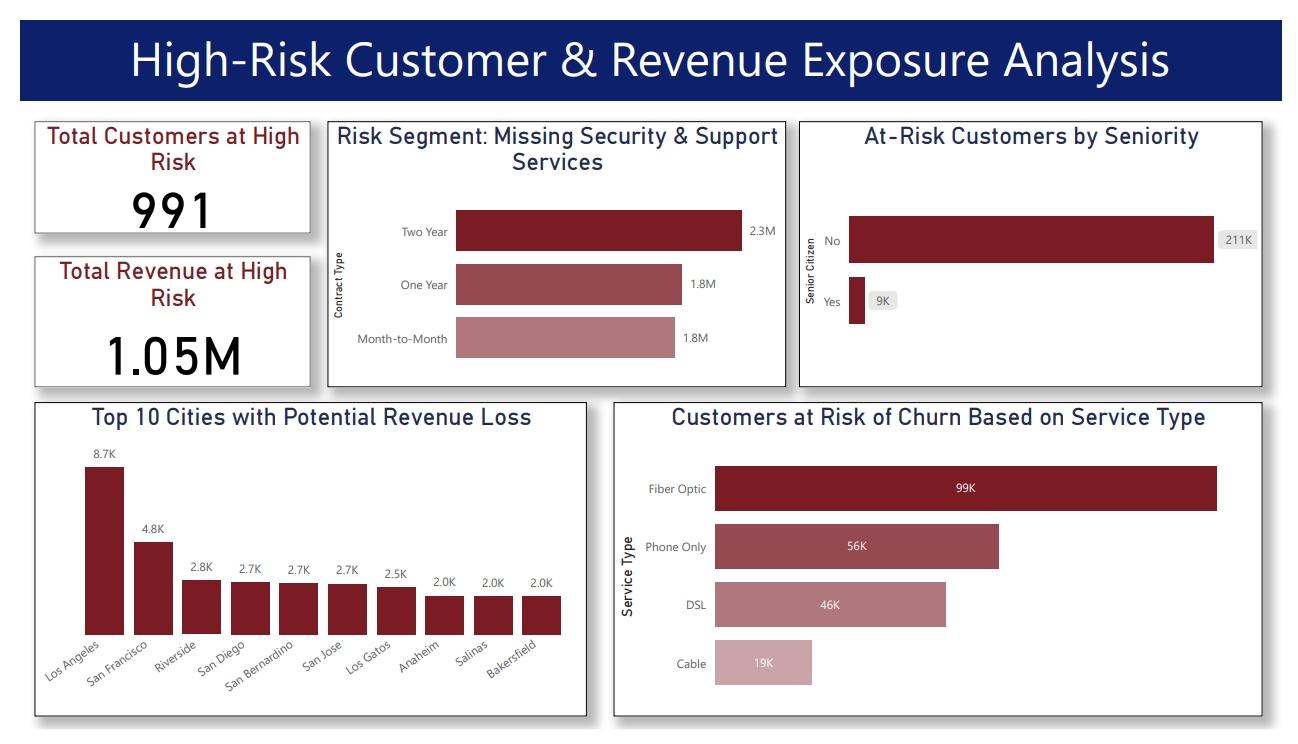

Layout of this report page (visuals, bound fields, positions):
{"tool":"powerbi","page":{"name":"Customer Risk Profiling","canvas":[1280,720],"ordinal":4},"visuals":[{"type":"textbox","box":[0,0,1279,82.1],"z":0},{"type":"card","title":"Total Customers at High Risk","fields":{"Values":["Fact_Churn.At Risk Customers"]},"box":[15,103.3,280,113.3],"z":1000},{"type":"barChart","title":"Risk Segment: Missing Security & Support Services","fields":{"Category":["Dim_Services.Contract"],"Y":["Sum(Dim_Services.Total Revenue)"]},"box":[311.7,103.3,465,270],"z":2000},{"type":"clusteredBarChart","title":"At-Risk Customers by Seniority","fields":{"Category":["Dim_Demographics.Senior Citizen"],"Y":["Sum(Dim_Services.Total Revenue)"]},"box":[790,103.3,470,270],"z":3000},{"type":"clusteredBarChart","title":"Customers at Risk of Churn Based on Service Type","fields":{"Category":["Dim_Services.Internet Type"],"Y":["Sum(Dim_Services.Total Revenue)"]},"box":[601.7,388.3,658.3,318.3],"z":4000},{"type":"card","title":"Total Revenue at High Risk","fields":{"Values":["Fact_Churn.At Risk Revenue"]},"box":[15,240,280,133.3],"z":5000},{"type":"clusteredColumnChart","title":"Top 10 Cities with Potential Revenue Loss","fields":{"Category":["Dim_Location.City"],"Y":["Fact_Churn.Potential Revenue Loss"]},"box":[15,388.3,560,318.3],"z":6000}]}

Visuals, with their boxes in screenshot pixels (x1, y1, x2, y2), scaled from the page's 1280x720 canvas onto the 1298x744 screenshot:
textbox: 0/0/1297/85
"Total Customers at High Risk" card: 15/107/299/224
"Risk Segment: Missing Security & Support Services" barChart: 316/107/788/386
"At-Risk Customers by Seniority" clusteredBarChart: 801/107/1278/386
"Customers at Risk of Churn Based on Service Type" clusteredBarChart: 610/401/1278/730
"Total Revenue at High Risk" card: 15/248/299/386
"Top 10 Cities with Potential Revenue Loss" clusteredColumnChart: 15/401/583/730
